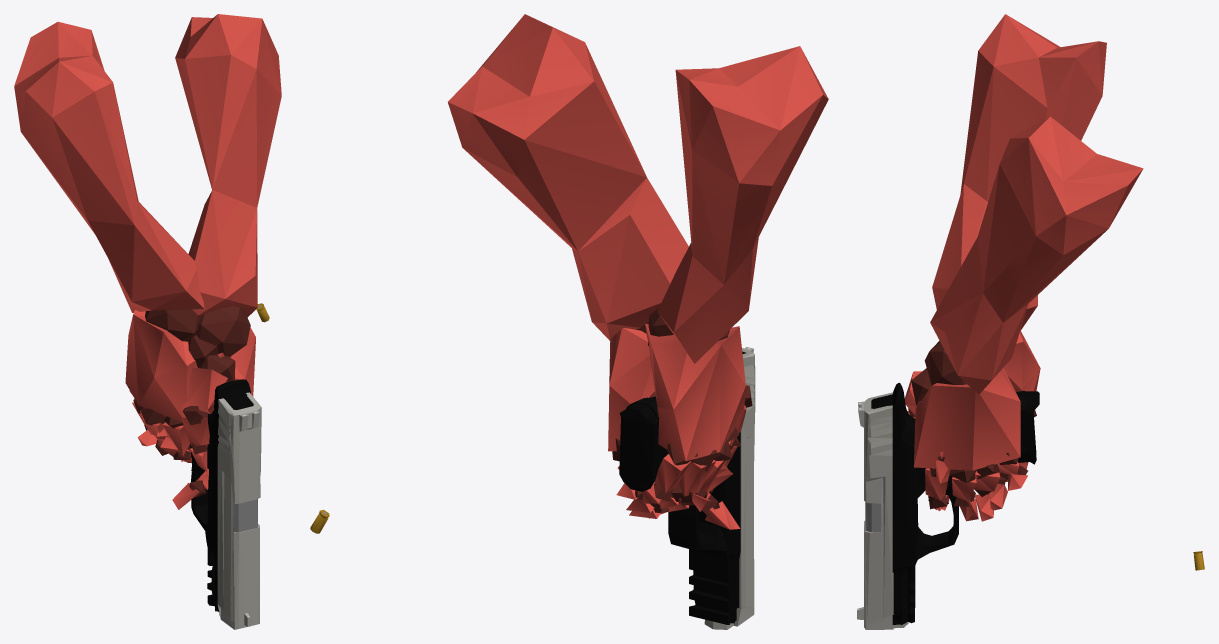
Rendered from M&P9shoot3LowP_000210.obj.
3 views of the same model, side by side, from view 1: azimuth 30°, elevation 25°; view 2: azimuth 150°, elevation 25°; view 3: azimuth 270°, elevation 25° (orthographic). The views are drawn at different scales.
Visible parts, largest first — view 1: Beta_Surface.001_Beta_Surface.002, slide_平面.002, Beta_Joints.001_Beta_Joints.002, triger_平面.001; view 2: Beta_Surface.001_Beta_Surface.002, triger_平面.001, slide_平面.002, Beta_Joints.001_Beta_Joints.002; view 3: Beta_Surface.001_Beta_Surface.002, triger_平面.001, slide_平面.002, Beta_Joints.001_Beta_Joints.002.
Boxes of the visible parts, x1=… form: Beta_Surface.001_Beta_Surface.002: x1=14, y1=14, x2=281, y2=509; slide_平面.002: x1=217, y1=392, x2=261, y2=629; Beta_Joints.001_Beta_Joints.002: x1=128, y1=306, x2=250, y2=497; triger_平面.001: x1=189, y1=379, x2=257, y2=611; Beta_Surface.001_Beta_Surface.002: x1=448, y1=14, x2=828, y2=529; triger_平面.001: x1=619, y1=396, x2=740, y2=624; slide_平面.002: x1=704, y1=347, x2=755, y2=629; Beta_Joints.001_Beta_Joints.002: x1=612, y1=308, x2=752, y2=518; Beta_Surface.001_Beta_Surface.002: x1=905, y1=14, x2=1143, y2=521; triger_平面.001: x1=865, y1=382, x2=1039, y2=624; slide_平面.002: x1=857, y1=392, x2=908, y2=629; Beta_Joints.001_Beta_Joints.002: x1=908, y1=341, x2=1036, y2=509.
Bounding box in the file's own units: 51.14 × 80.1 × 45.78.
